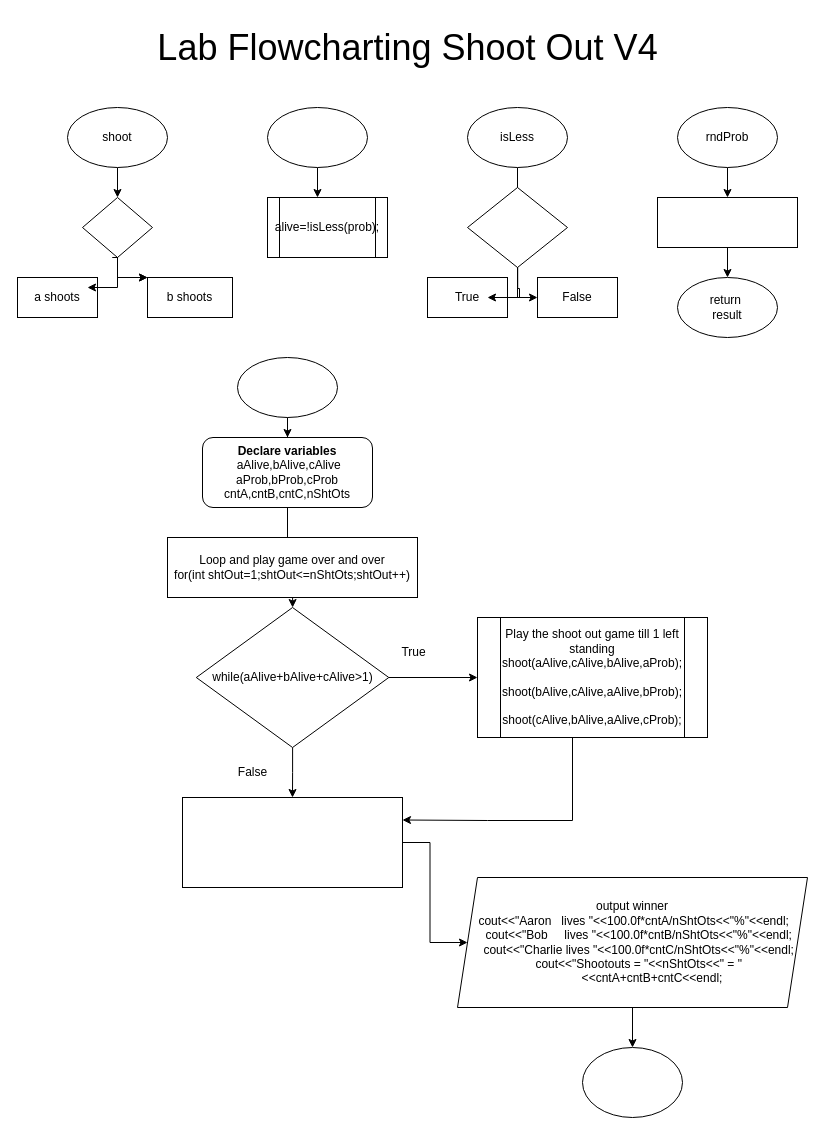
Image size: 825x1135. Some labels were removed from this diagram. The box of each missing label's shape, as (x1, y1, x2, y2) in pixels:
(prob>=rndProb(): (466, 186, 568, 268)
1.0f*rand()/(pow(2,15)-1): (656, 196, 798, 248)
if aAlive: (82, 196, 152, 258)
Increment the one left alive cntA+=aAlive; cntB+=bAlive; cntC+=cAlive;: (182, 796, 402, 888)
main: (236, 356, 338, 418)
return 0 Exit from main: (582, 1046, 682, 1118)
shootAt: (266, 106, 368, 168)
